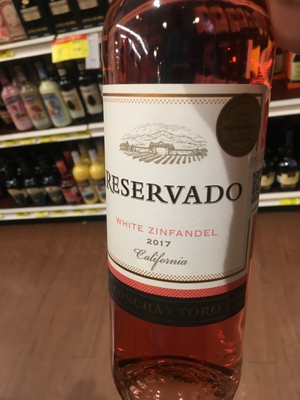reservado white zinfandel: (88, 12, 276, 395)
